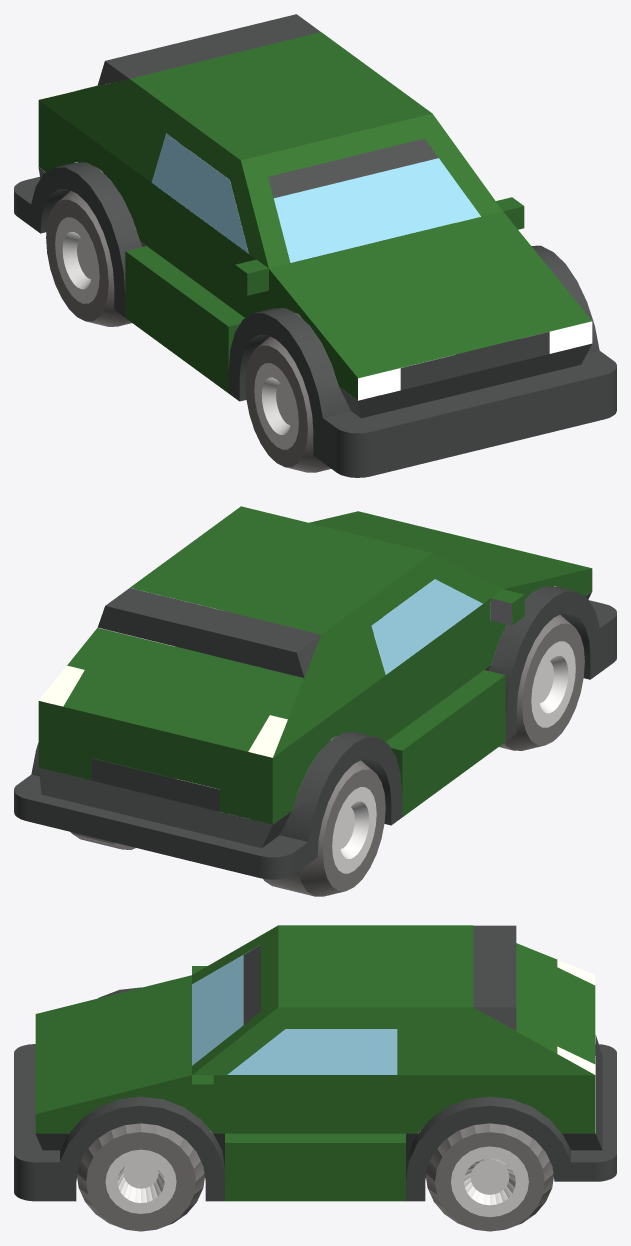
Rendered from hatchback.glb.
3 views of the same model, one above another, from view 1: azimuth 30°, elevation 25°; view 2: azimuth 150°, elevation 25°; view 3: azimuth 270°, elevation 25° (orthographic). The views are drawn at different scales.
Parts seen in each view (by area): view 1: body.004, wheel_frontRight.004, wheel_backRight.004; view 2: body.004, wheel_backRight.004, wheel_frontRight.004; view 3: body.004, wheel_frontLeft.004, wheel_backLeft.004.
Boxes of the visible parts, bbox=[...] form: body.004: bbox=[14, 14, 616, 477]; wheel_frontRight.004: bbox=[245, 336, 368, 472]; wheel_backRight.004: bbox=[46, 191, 141, 326]; body.004: bbox=[14, 506, 616, 879]; wheel_backRight.004: bbox=[263, 759, 385, 896]; wheel_frontRight.004: bbox=[490, 602, 584, 750]; body.004: bbox=[14, 925, 616, 1201]; wheel_frontLeft.004: bbox=[77, 1123, 204, 1231]; wheel_backLeft.004: bbox=[426, 1123, 553, 1231].
Size of the model in its own units: 1.3 by 1.1 by 2.8.
3 materials, 3 textured.
